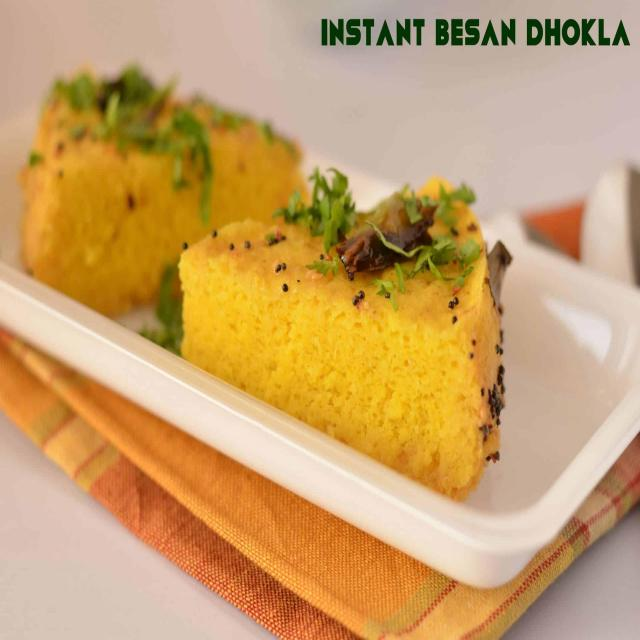dhokla: (190, 196, 515, 494), (21, 80, 292, 351)
